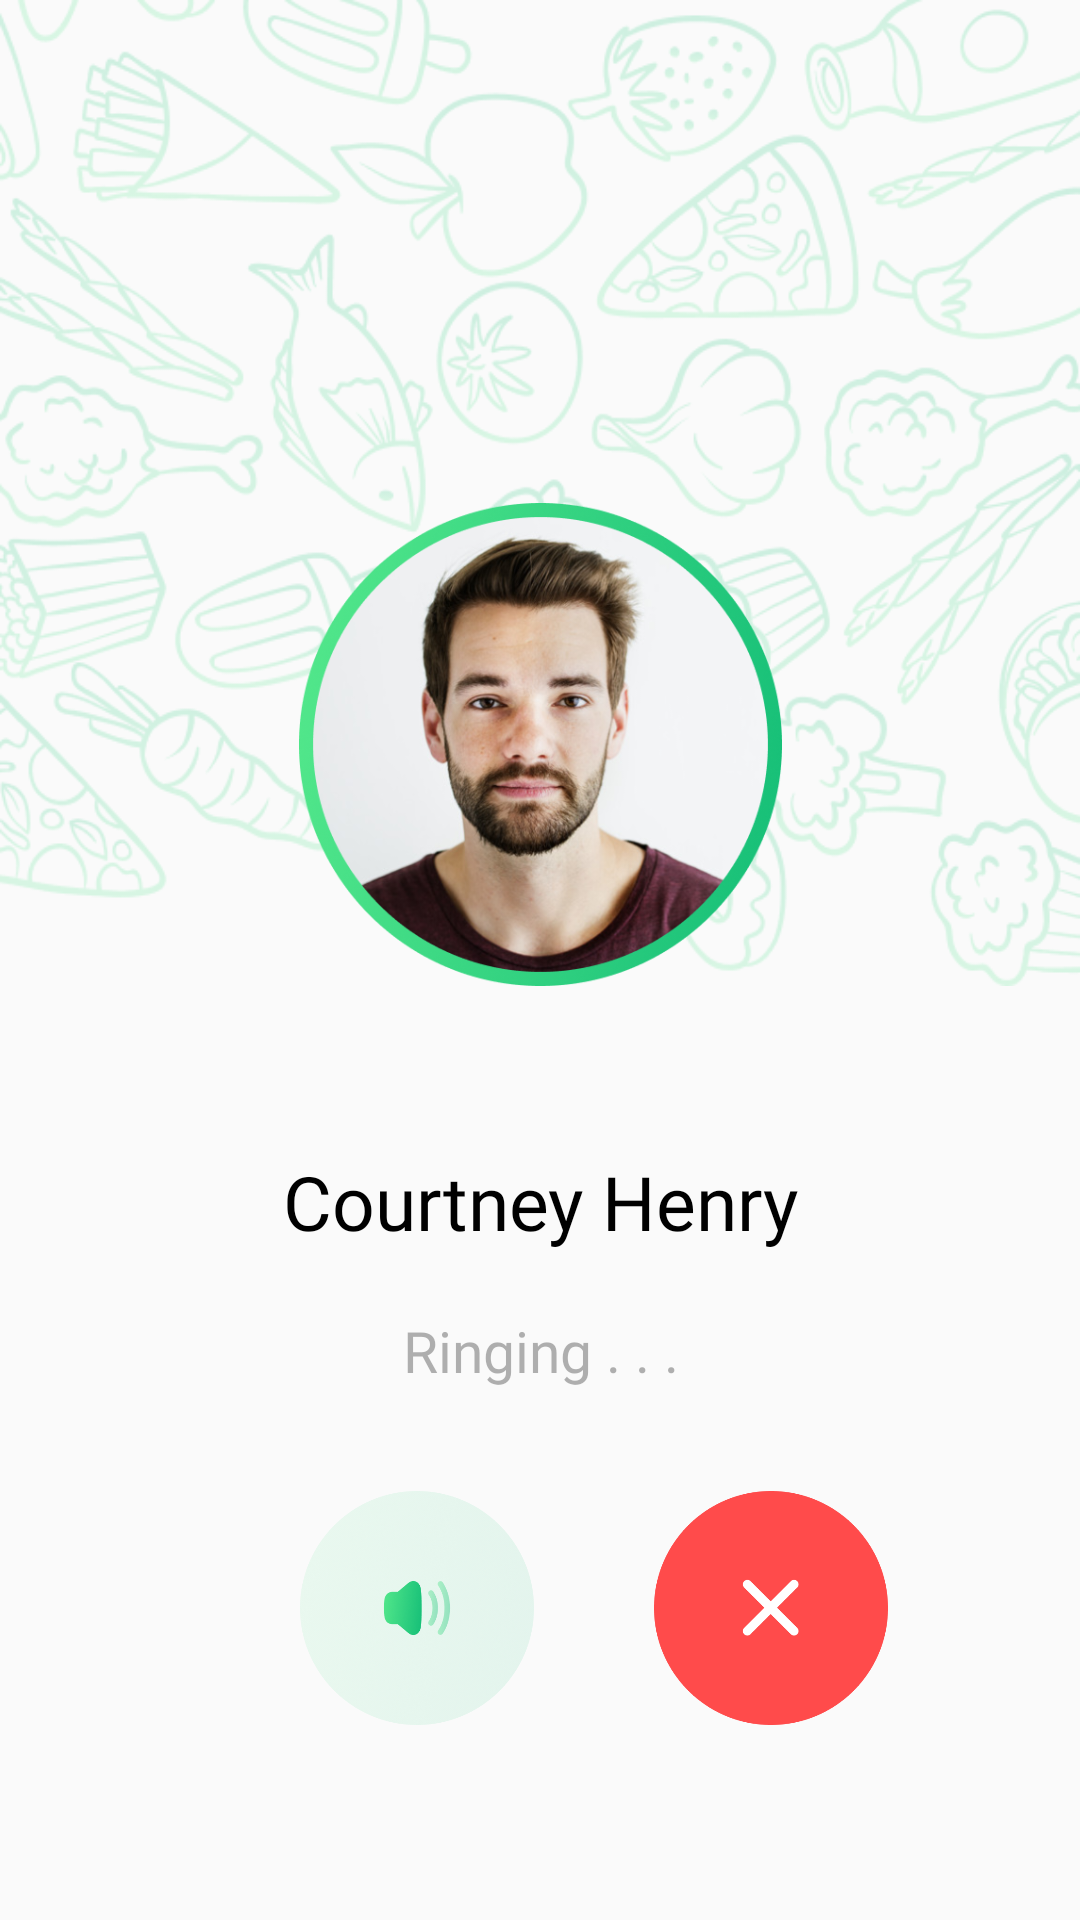

Icon bounding boxes for this 1080*1920 phone screenshot, format (x1, y1, x2, y2):
closeicon: (654, 1491, 888, 1725)
speakericon: (383, 1581, 451, 1635)
